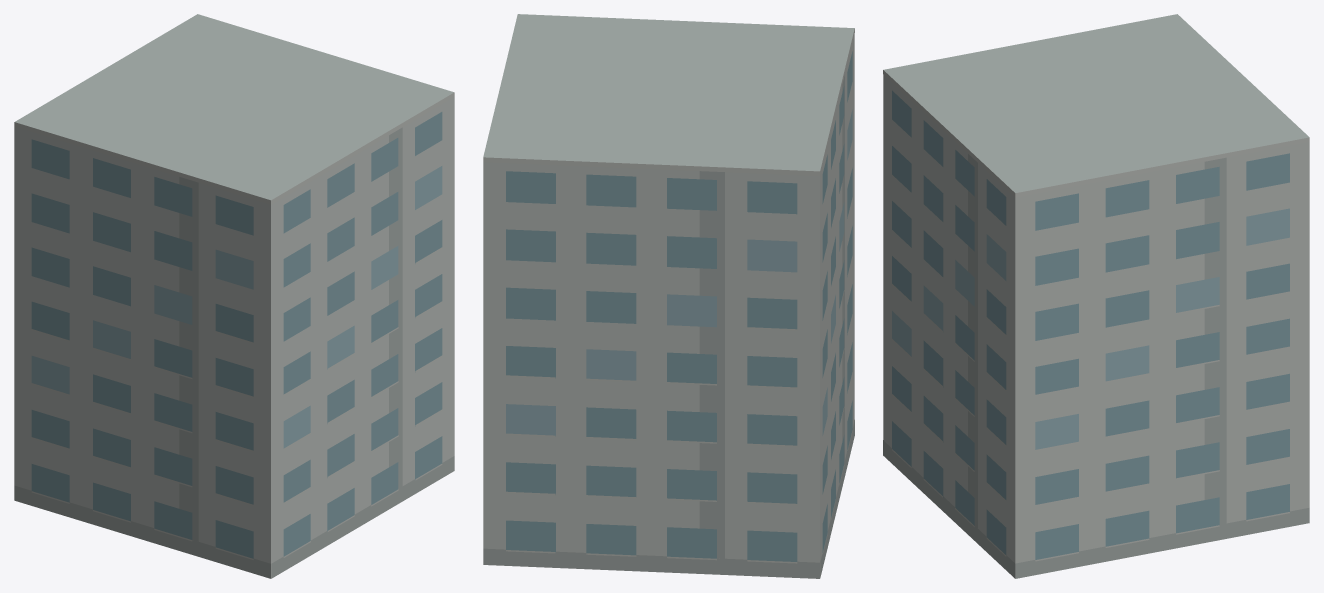
Rendered from survey-upis-32809136.glb.
3 renders of one model, left to right at view 1: azimuth 30°, elevation 25°; view 2: azimuth 150°, elevation 25°; view 3: azimuth 270°, elevation 25°, orthographic. The views are drawn at different scales.
Visible parts, largest first — view 1: survey-upis-32809136.tmp; view 2: survey-upis-32809136.tmp; view 3: survey-upis-32809136.tmp.
Boxes of the visible parts, box(x1,y1,x2,y2) form: survey-upis-32809136.tmp: box(14, 14, 454, 578); survey-upis-32809136.tmp: box(483, 14, 854, 578); survey-upis-32809136.tmp: box(883, 14, 1309, 578).
Size of the model in its own units: 21.04 by 21.1 by 21.16.
